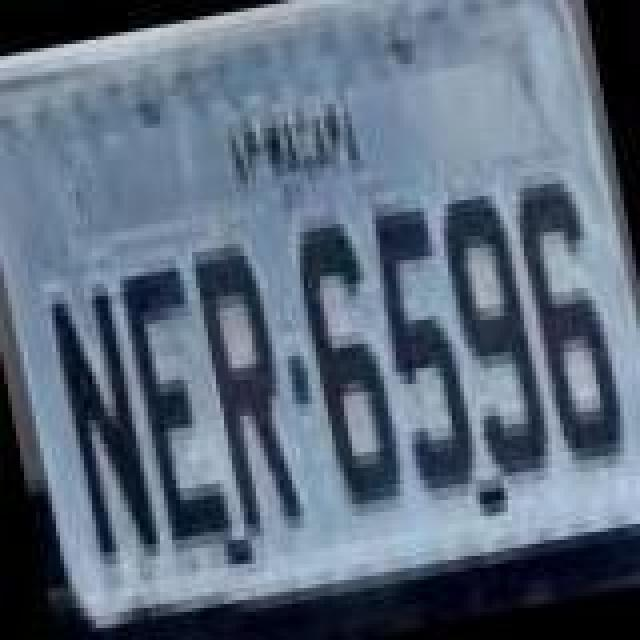5: (364, 196, 484, 500)
6: (506, 168, 630, 472), (292, 216, 412, 512)
9: (434, 186, 558, 486)
E: (116, 258, 236, 550)
N: (46, 282, 162, 574)
R: (188, 234, 308, 534)
